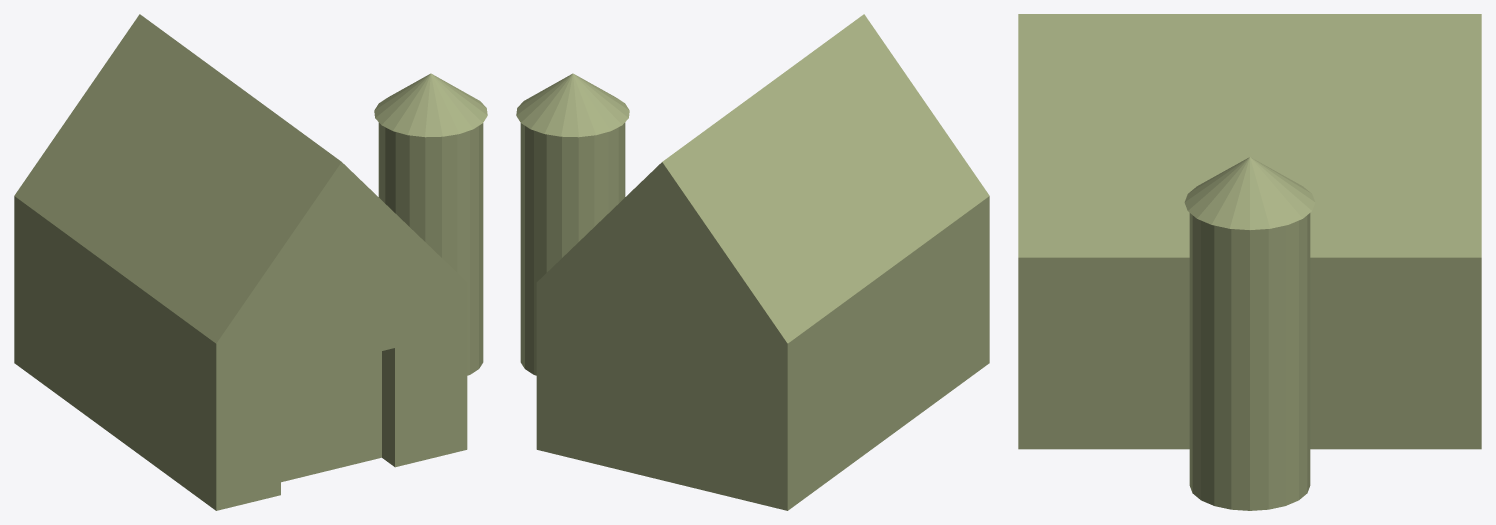
Rendered from agricultural.glb.
3 views of the same model, side by side, from view 1: azimuth 30°, elevation 25°; view 2: azimuth 150°, elevation 25°; view 3: azimuth 270°, elevation 25° (orthographic). The views are drawn at different scales.
Parts seen in each view (by area): view 1: agricultural; view 2: agricultural; view 3: agricultural.
Boxes of the visible parts, x1,y1,x2,y2 form: agricultural: (14,14,487,510); agricultural: (516,14,989,510); agricultural: (1018,14,1481,510).
Bounding box in the file's own units: 0.96 × 0.8 × 0.92.
